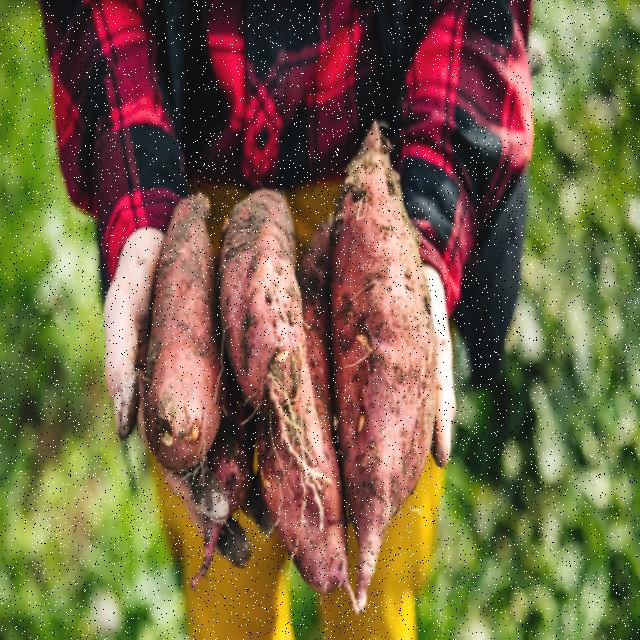Sweet Potato: (344, 132, 432, 623), (215, 158, 313, 510), (144, 194, 223, 462)
